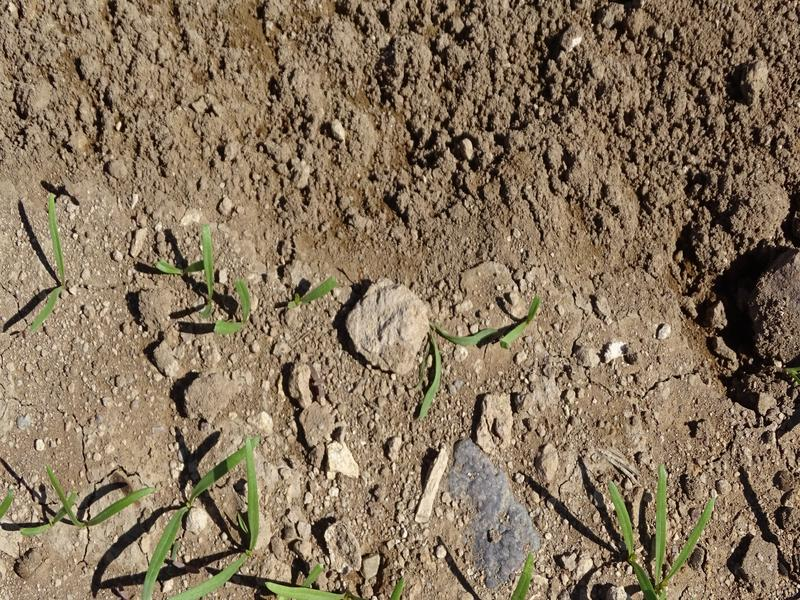Espinaca: (146, 428, 263, 600), (592, 461, 721, 592), (420, 297, 540, 415), (179, 240, 259, 332), (47, 472, 154, 523), (34, 190, 63, 326)
